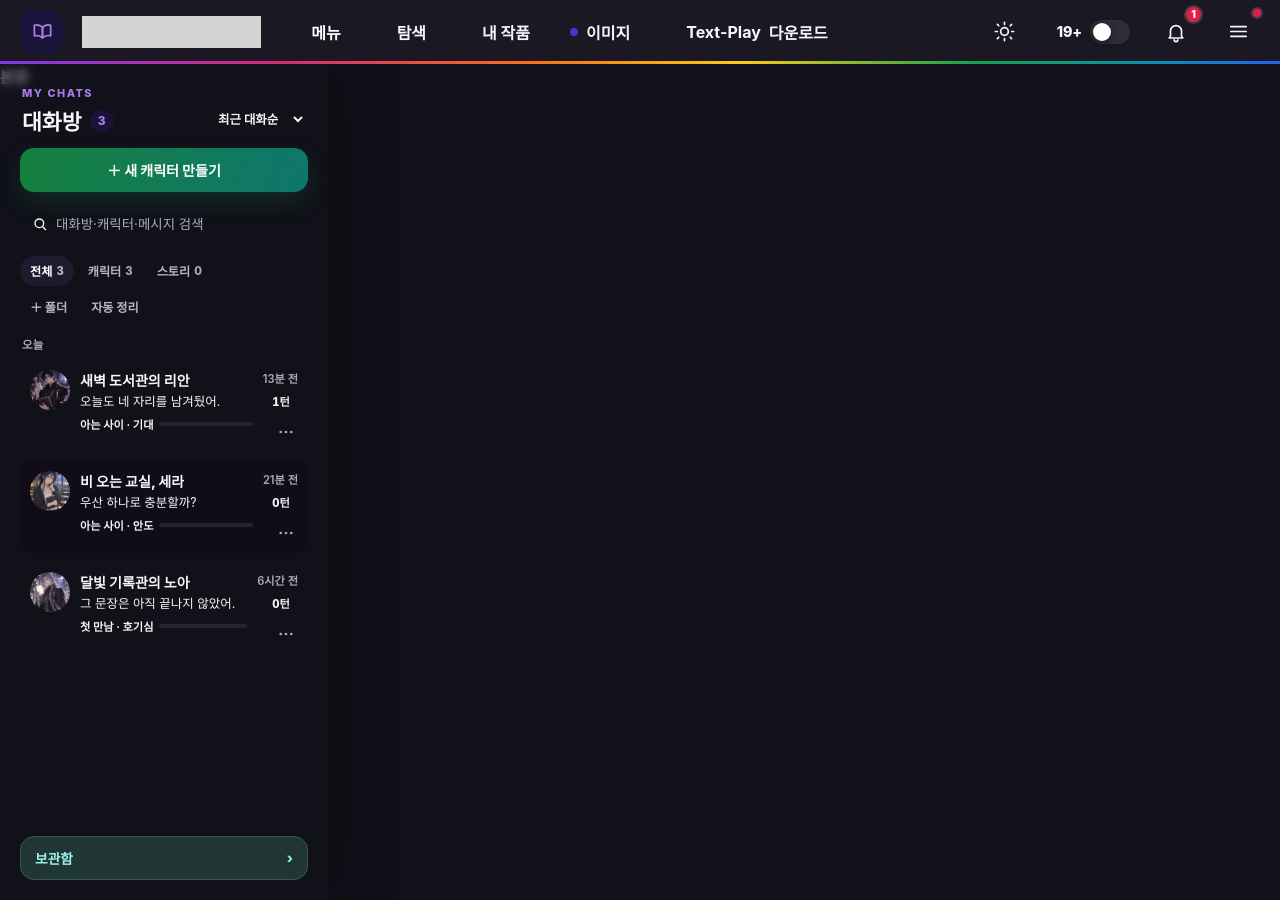
Test case: 왼쪽 대화방 창 › 정렬을 바꾸면 순서가 바뀌고 설정에 저장된다
Select "이름순" in the dropdown named "대화방 정렬" at (256, 119), box [206, 102, 306, 136]
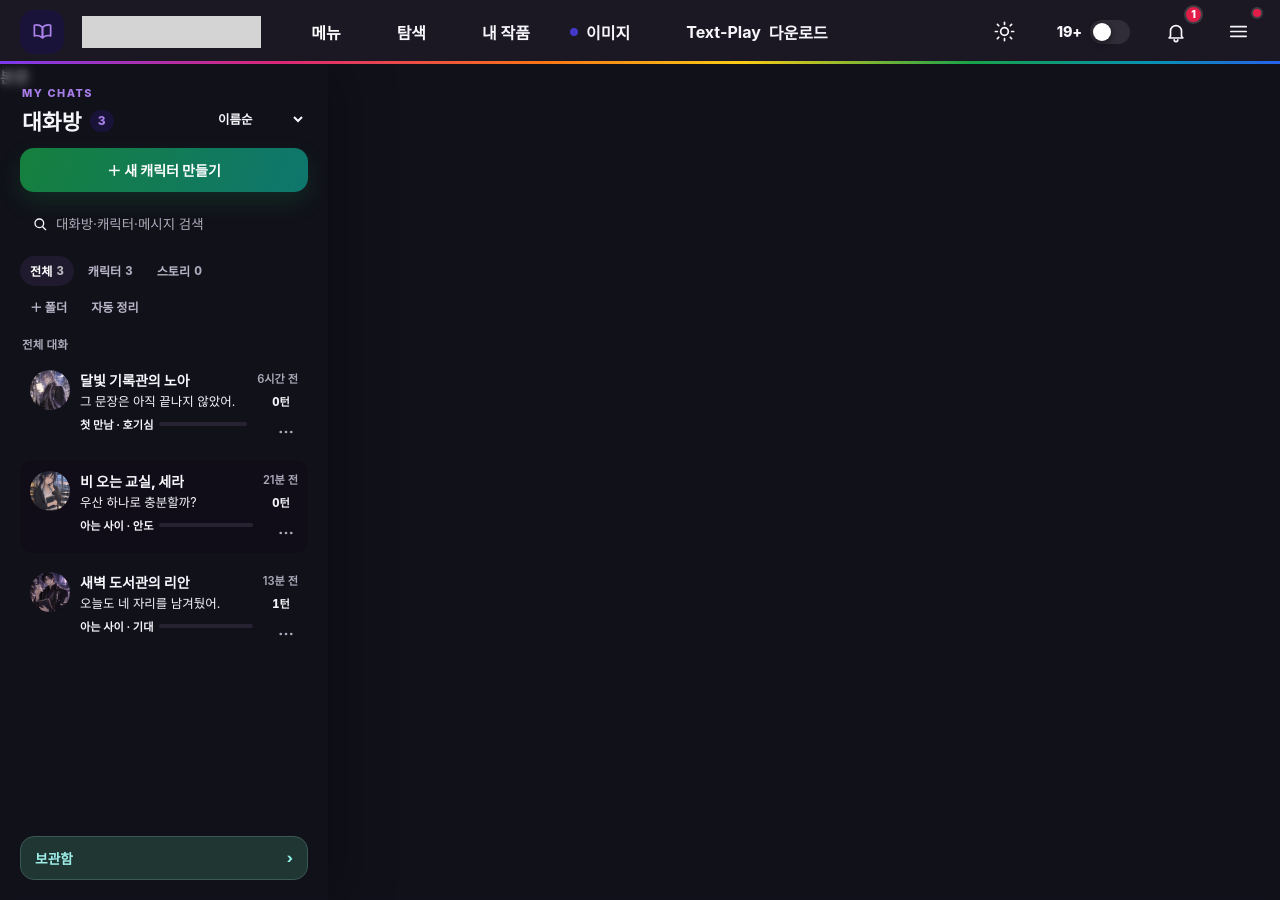
Expected: the heading "전체 대화" is shown, [22, 338, 68, 352]
